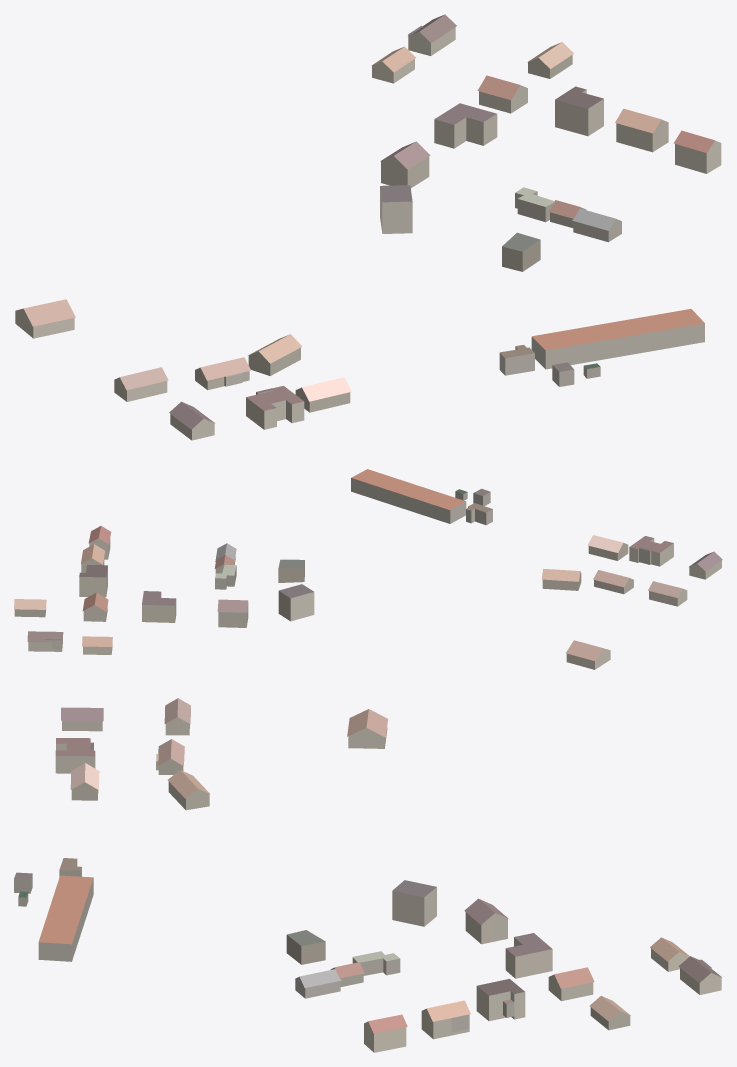
The picture shows the model from 3 angles, top to bottom: view 1: azimuth 30°, elevation 25°; view 2: azimuth 150°, elevation 25°; view 3: azimuth 270°, elevation 25°; orthographic projection. The views are drawn at different scales.
Parts seen in each view (by area): view 1: tuile; view 2: tuile; view 3: tuile.
Part boxes in pixels (x1=…): tuile: x1=15, y1=14, x2=721, y2=440; tuile: x1=14, y1=469, x2=722, y2=669; tuile: x1=14, y1=698, x2=721, y2=1052.
Size of the model in its own units: 263 by 18.7 by 246.
